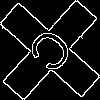C: (25, 25, 83, 82)
